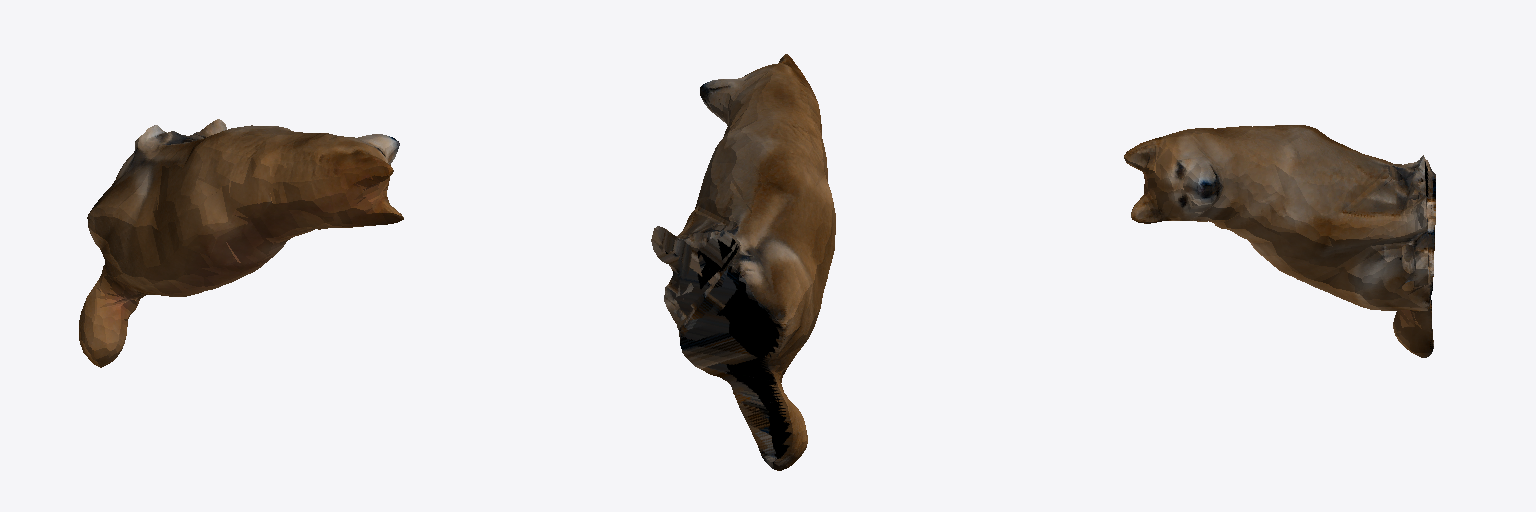
3 renders of one model, left to right at view 1: azimuth 30°, elevation 25°; view 2: azimuth 150°, elevation 25°; view 3: azimuth 270°, elevation 25°, orthographic.
Size of the model in its own units: 0.3975 by 0.5118 by 0.511.
1 materials, 1 textured.